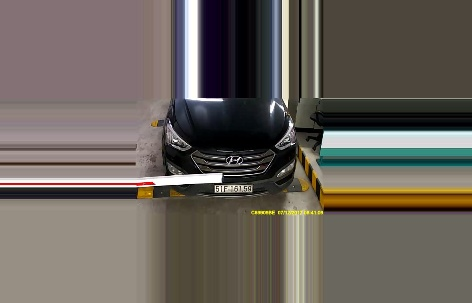plate: (215, 180, 256, 195)
